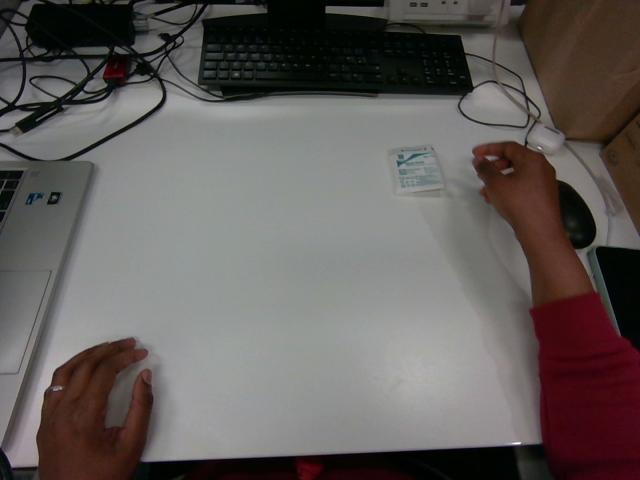gauze: (389, 145, 444, 194)
